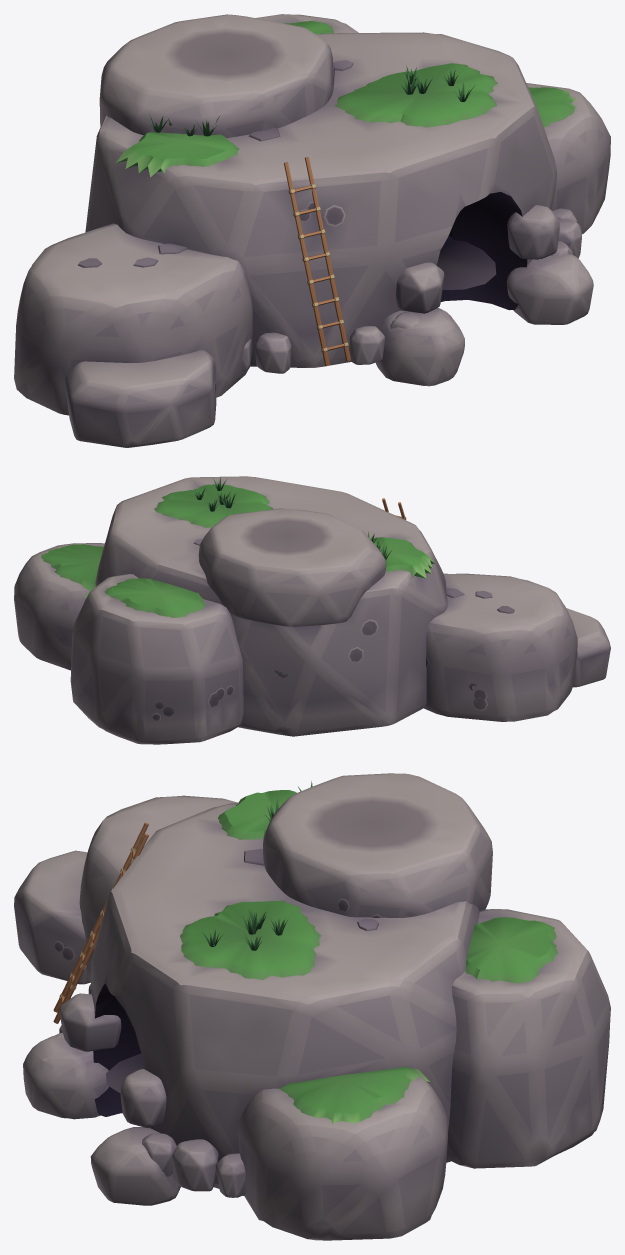
The model's file is haven_rockstack.glb.
3 renders of one model, top to bottom at view 1: azimuth 30°, elevation 25°; view 2: azimuth 150°, elevation 25°; view 3: azimuth 270°, elevation 25°, orthographic. The views are drawn at different scales.
Visible parts, largest first — view 1: haven_rockstack-col; view 2: haven_rockstack-col; view 3: haven_rockstack-col.
Boxes of the visible parts, bbox=[...] form: haven_rockstack-col: bbox=[14, 14, 610, 447]; haven_rockstack-col: bbox=[14, 476, 610, 744]; haven_rockstack-col: bbox=[14, 773, 610, 1240].
Size of the model in its own units: 19.17 by 6.58 by 14.04.
